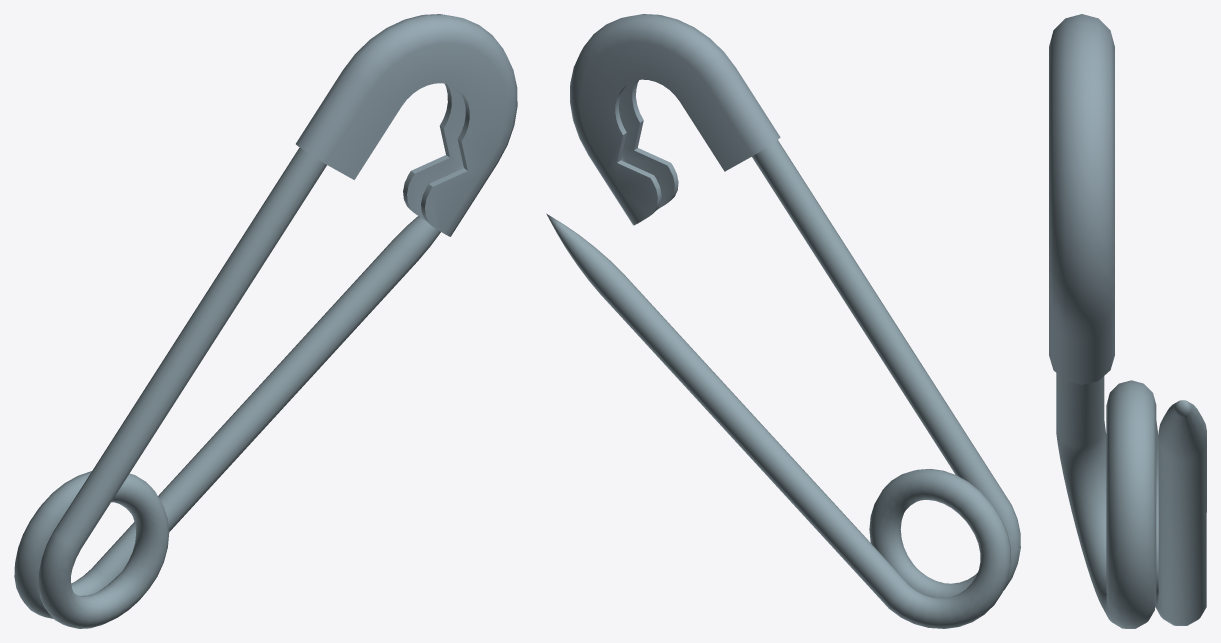
File: safety_pin.gltf
3 renders of one model, left to right at view 1: azimuth 30°, elevation 25°; view 2: azimuth 150°, elevation 25°; view 3: azimuth 270°, elevation 25°, orthographic. The views are drawn at different scales.
Parts seen in each view (by area): view 1: Torus.013; view 2: Torus.013; view 3: Torus.013.
Boxes of the visible parts, bbox=[...] form: Torus.013: bbox=[14, 14, 517, 628]; Torus.013: bbox=[546, 14, 1020, 628]; Torus.013: bbox=[1049, 14, 1206, 628].
Size of the model in its own units: 2.01 by 2.17 by 0.38.
Materials: 1 (1 with a texture image).
